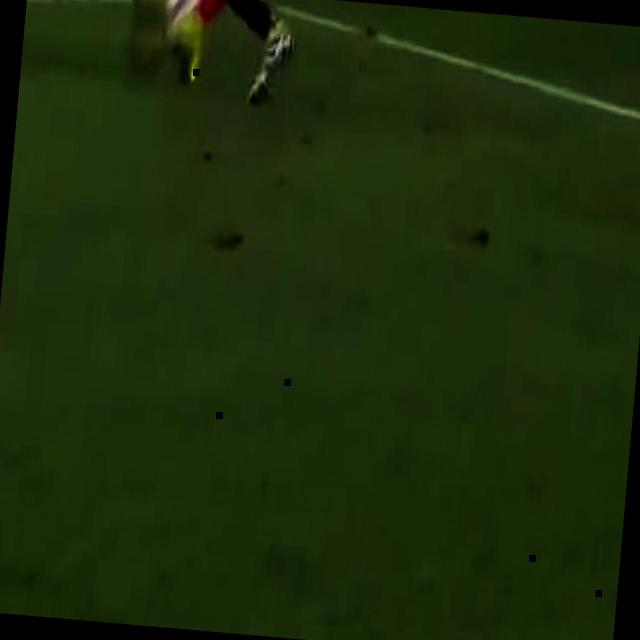ball: (160, 0, 206, 52)
player-white: (169, 0, 365, 120), (106, 0, 260, 99)
